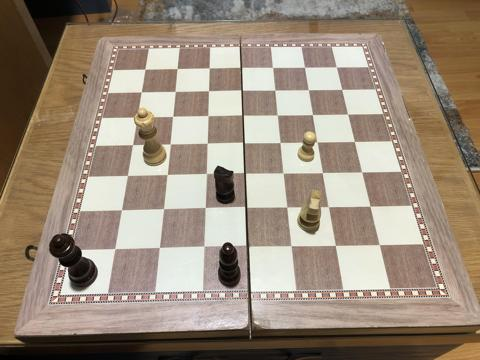xcorner: (332, 60, 344, 72), (300, 61, 312, 73), (268, 61, 280, 73), (236, 62, 248, 74), (204, 62, 216, 74), (172, 63, 184, 75), (140, 63, 152, 75), (337, 83, 349, 95), (270, 84, 282, 96), (203, 85, 215, 97), (136, 86, 148, 98), (343, 108, 355, 120), (273, 109, 285, 121), (202, 110, 214, 122), (167, 111, 179, 123), (313, 136, 325, 148), (201, 138, 213, 150), (127, 139, 139, 151), (357, 166, 369, 178), (318, 167, 330, 179), (279, 167, 291, 179), (200, 169, 212, 181), (365, 200, 377, 212), (282, 202, 294, 214), (199, 203, 211, 215), (157, 204, 169, 216), (374, 239, 386, 251), (242, 241, 254, 253), (153, 243, 165, 255), (109, 244, 121, 256), (304, 84, 316, 95), (237, 85, 249, 96), (308, 109, 320, 120), (238, 110, 250, 121), (132, 111, 143, 123), (350, 135, 361, 147), (276, 137, 287, 149), (239, 137, 250, 149), (164, 139, 176, 150), (240, 168, 251, 180), (161, 170, 173, 181), (122, 170, 133, 182), (324, 201, 335, 213), (116, 205, 127, 217), (330, 240, 342, 251), (286, 241, 298, 252), (198, 242, 209, 254), (170, 86, 181, 97), (241, 203, 252, 214)
